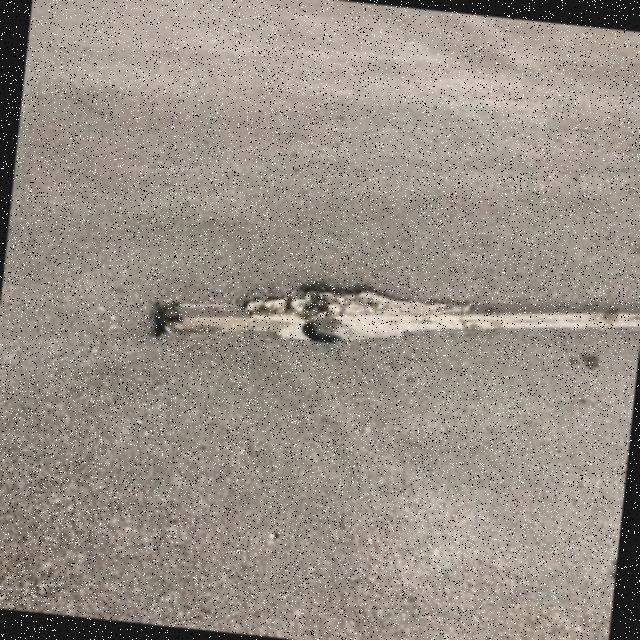Pothole: (148, 279, 640, 345)
